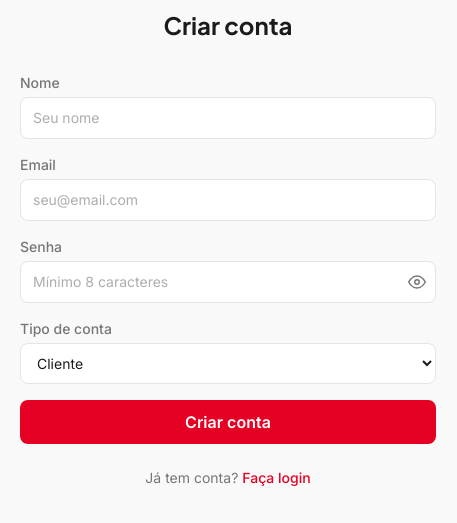
Cadastro › shows error for invalid email
Type "Teste" into the field labelled "Nome".
click(228, 118); type("Teste")  # box [20,97,436,139]
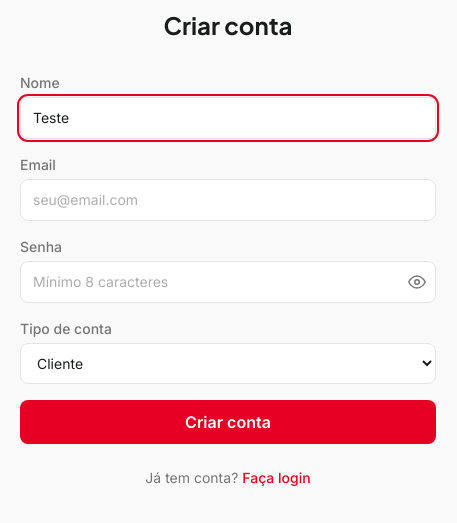
Type "invalido" into the field labelled "Email".
click(228, 200); type("invalido")  # box [20,179,436,221]
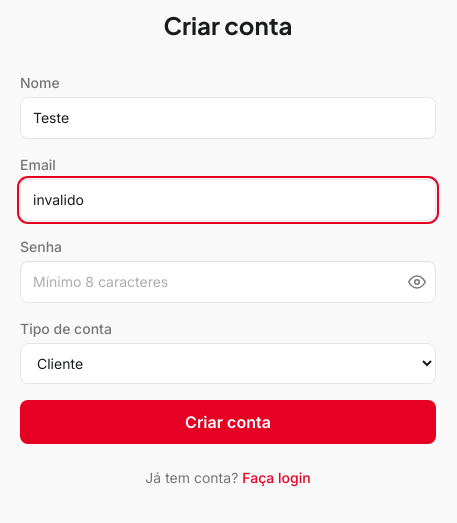
Type "Senha123" into the password field labelled "Senha".
click(228, 282); type("Senha123")  # box [20,261,436,303]
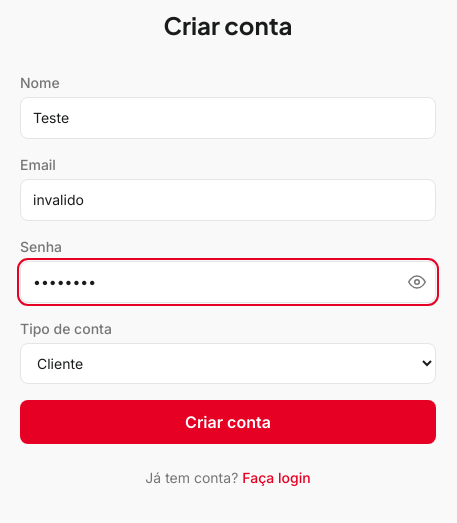
Click the button "Criar conta".
click(228, 422)  # box [20,400,436,444]
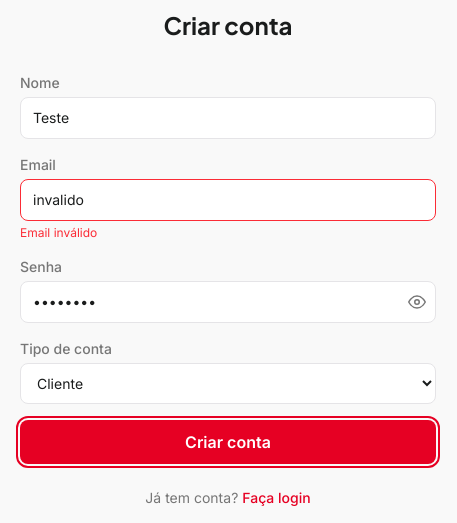
Result: the text "Email inválido" is shown at [20,225,97,240]
